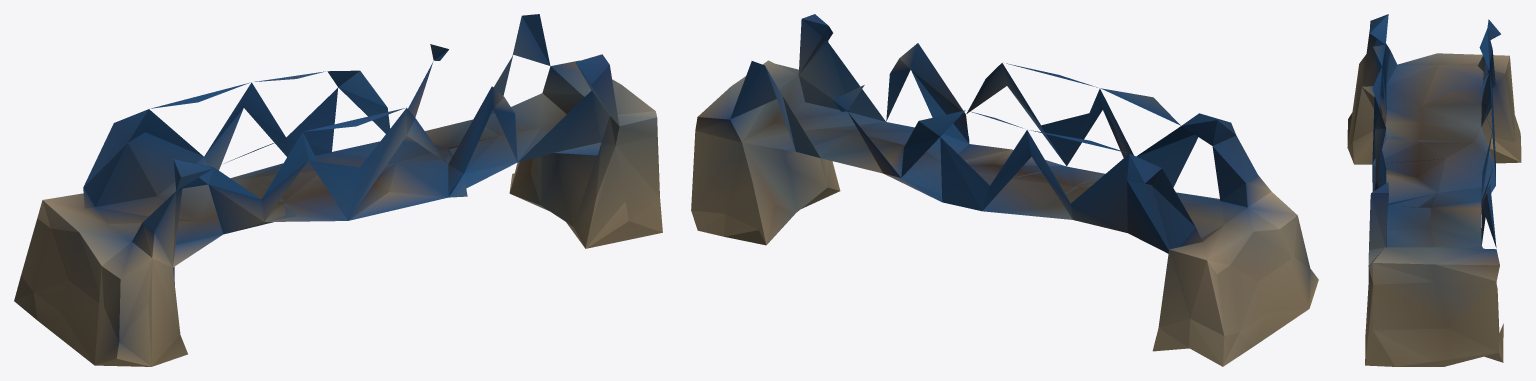
File: metal-bridge.glb
The picture shows the model from 3 angles, left to right: view 1: azimuth 30°, elevation 25°; view 2: azimuth 150°, elevation 25°; view 3: azimuth 270°, elevation 25°; orthographic projection. The views are drawn at different scales.
Parts seen in each view (by area): view 1: metal-bridge-far; view 2: metal-bridge-far; view 3: metal-bridge-far.
Boxes of the visible parts, <box> form: metal-bridge-far: <box>14,14,662,366</box>; metal-bridge-far: <box>691,14,1318,366</box>; metal-bridge-far: <box>1347,14,1521,366</box>.
Bounding box in the file's own units: 13.02 × 3.96 × 4.06.
